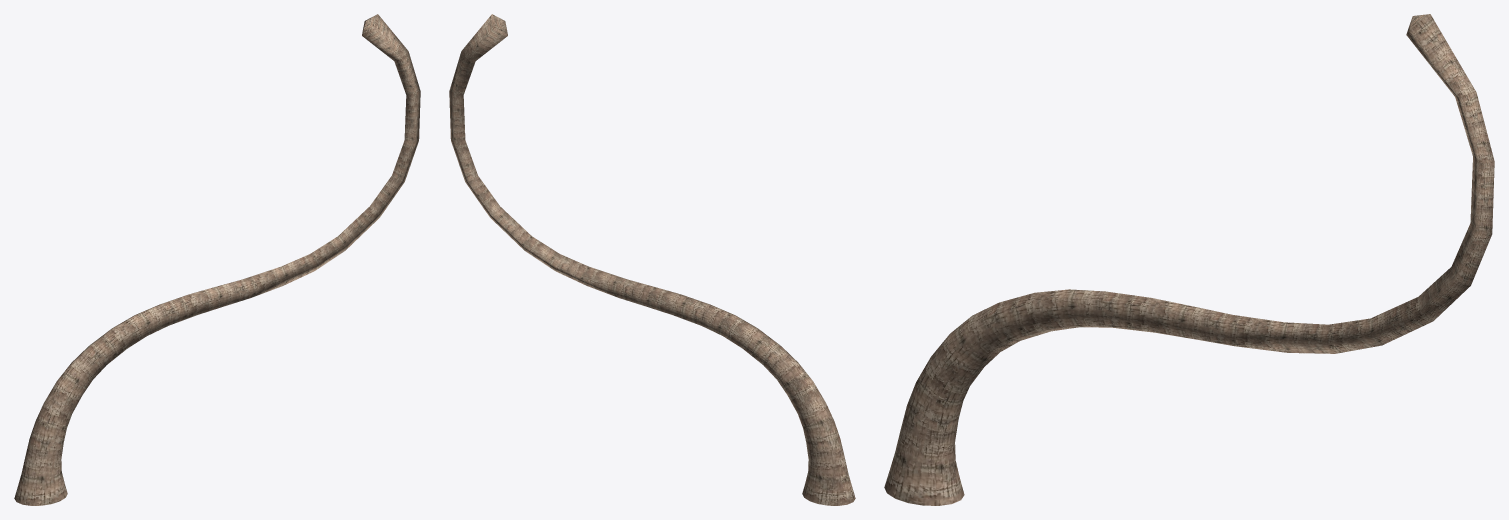
The model's file is m_palm_p2_12_trunk_0.001_lev2.glb.
3 renders of one model, left to right at view 1: azimuth 30°, elevation 25°; view 2: azimuth 150°, elevation 25°; view 3: azimuth 330°, elevation 25°, orthographic. The views are drawn at different scales.
Visible parts, largest first — view 1: m_palm_p2_12_trunk_0.001_lev2; view 2: m_palm_p2_12_trunk_0.001_lev2; view 3: m_palm_p2_12_trunk_0.001_lev2.
Boxes of the visible parts, bbox=[...] form: m_palm_p2_12_trunk_0.001_lev2: bbox=[14, 14, 420, 505]; m_palm_p2_12_trunk_0.001_lev2: bbox=[449, 14, 855, 505]; m_palm_p2_12_trunk_0.001_lev2: bbox=[884, 14, 1494, 505].
Bounding box in the file's own units: 3.66 × 3.47 × 0.3401.
Materials: 1 (1 with a texture image).
